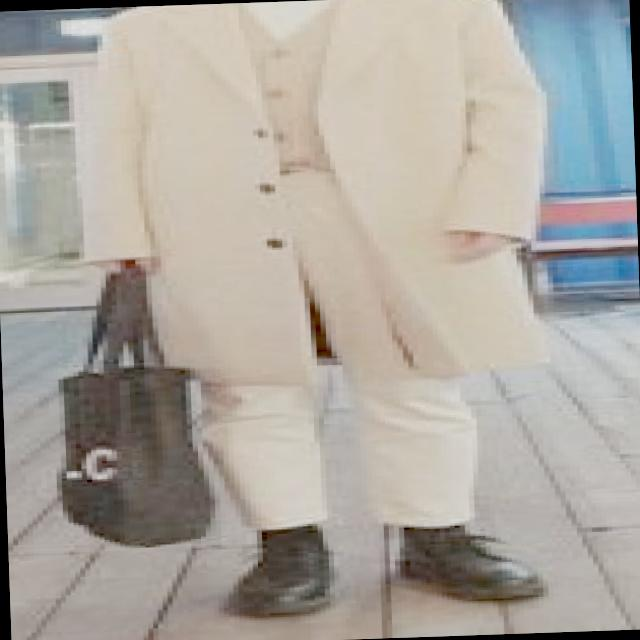cardigan: (222, 0, 370, 167)
coat: (70, 0, 566, 389)
cottonpants: (182, 163, 478, 534)
